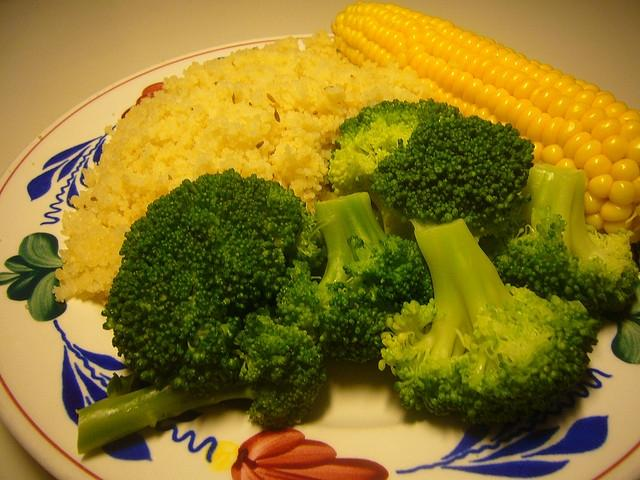broccoli: (378, 217, 604, 426), (101, 168, 302, 398), (272, 192, 434, 364), (76, 345, 329, 454), (482, 160, 640, 322), (370, 97, 535, 240), (326, 98, 464, 196)
corn: (332, 0, 640, 234), (541, 117, 566, 146), (504, 71, 530, 96), (462, 77, 483, 105)
